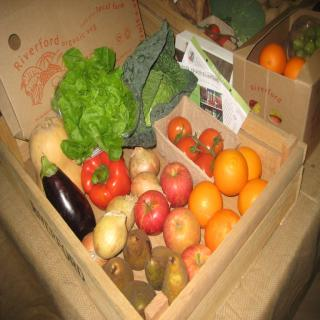tomato: (197, 128, 223, 158), (168, 116, 194, 142), (174, 136, 198, 162), (192, 155, 215, 176)
